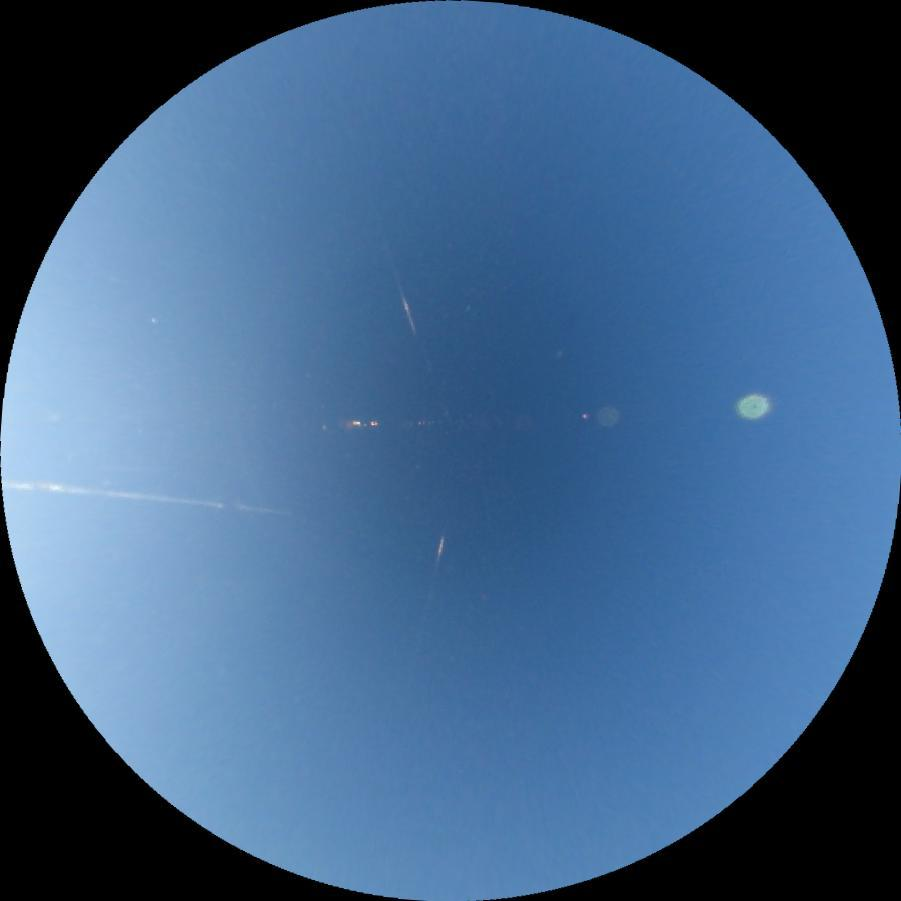parasite: (2, 478, 297, 521), (394, 282, 436, 378), (428, 527, 447, 600)
